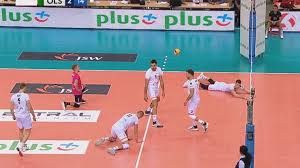ball: (173, 48, 180, 55)
